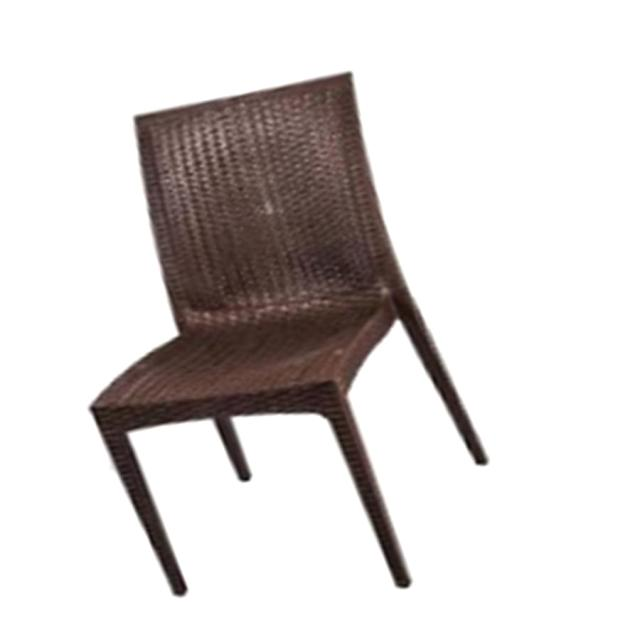Chair: (89, 70, 496, 600)
